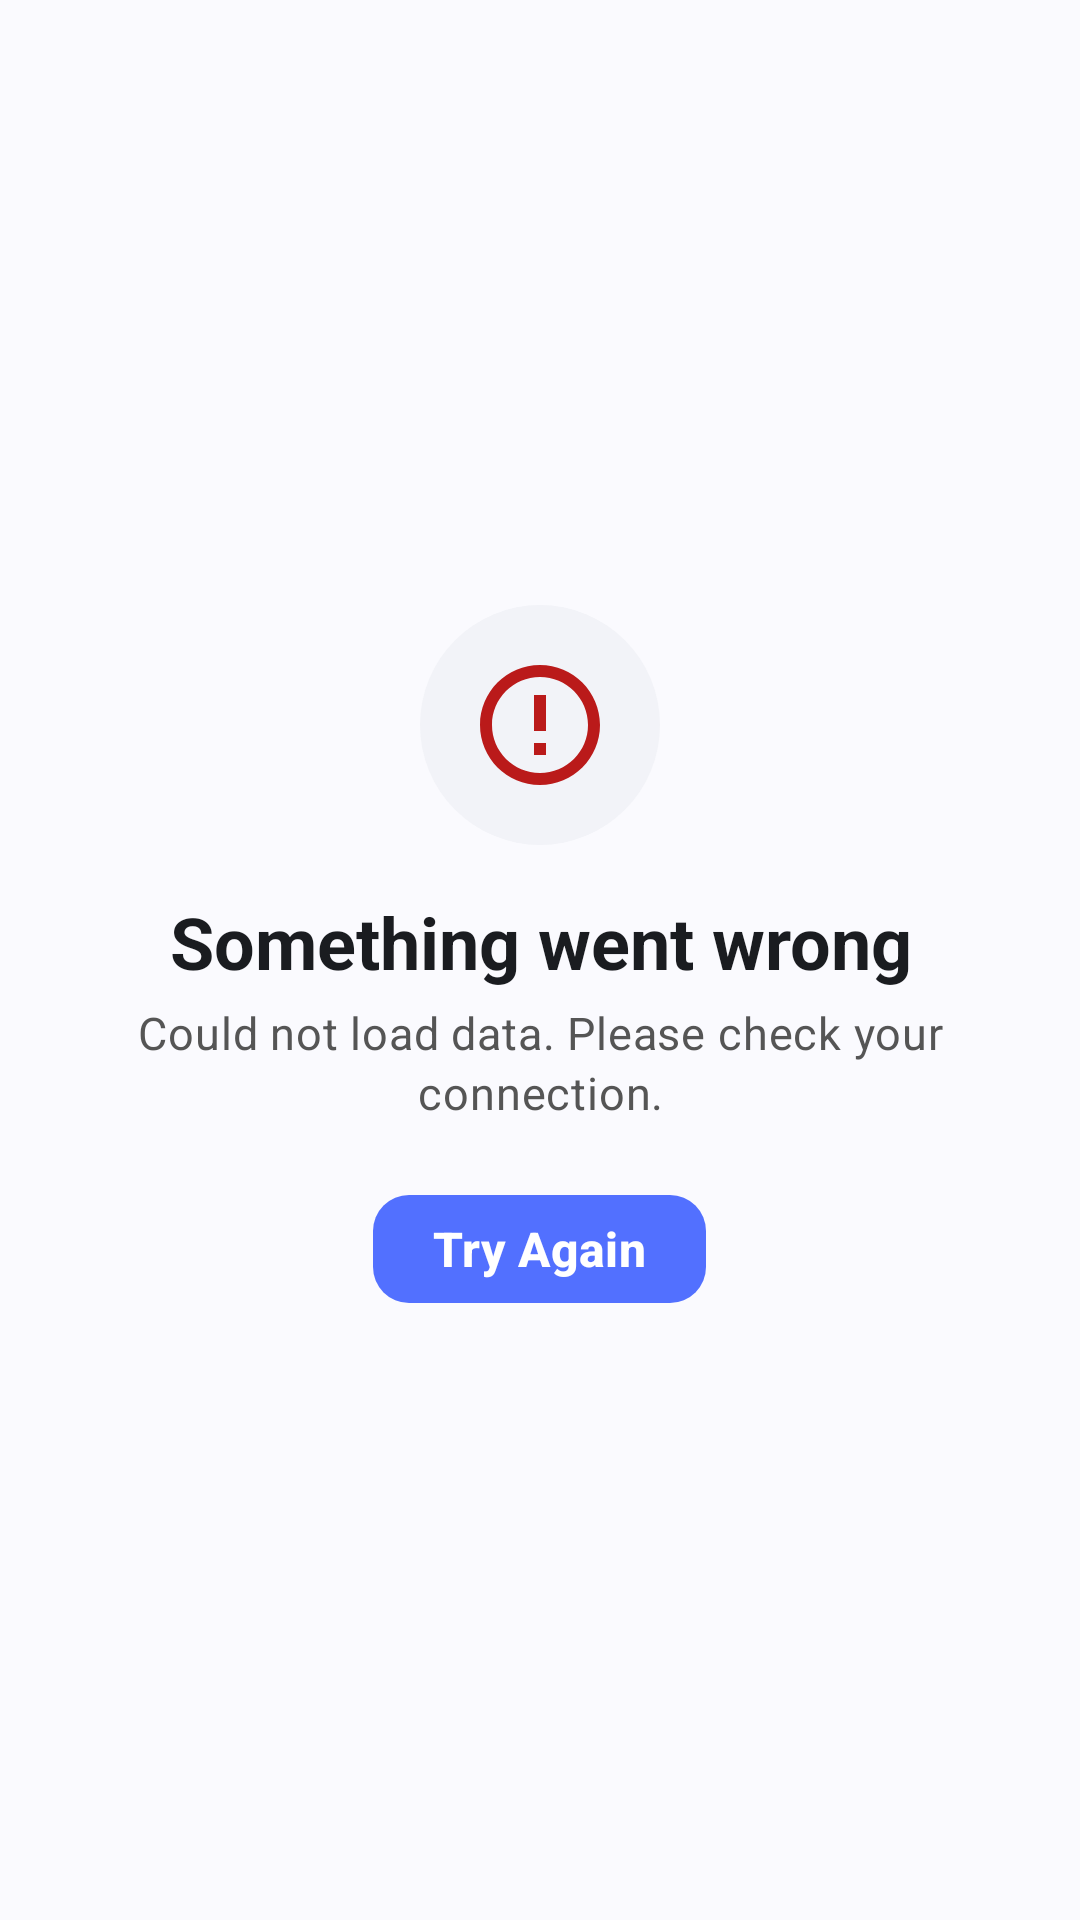

Icons on this 1080 × 1920 Android screen, each with the point to tap as point (x, y):
Error: point (540, 725)
